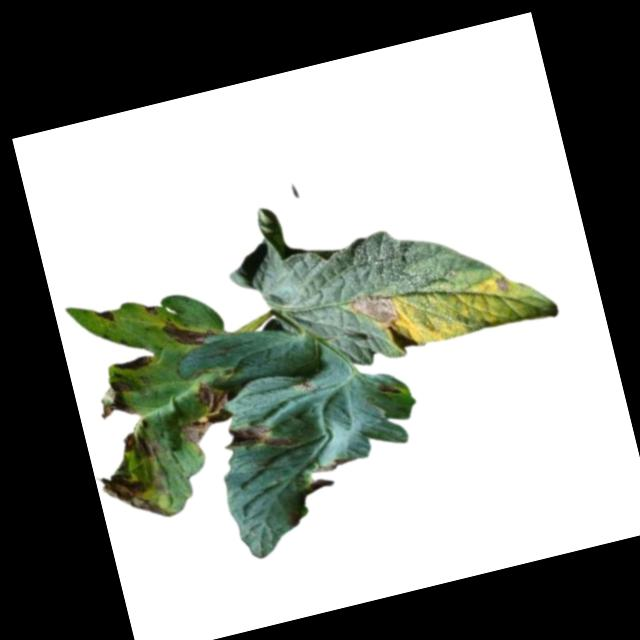Early_blight: (95, 454, 171, 534), (170, 375, 235, 447), (224, 413, 296, 462), (349, 285, 402, 332), (160, 311, 214, 351), (121, 421, 166, 464), (92, 375, 134, 421), (110, 349, 155, 375), (374, 376, 401, 399), (95, 303, 117, 326), (490, 272, 512, 294), (145, 301, 159, 316)
